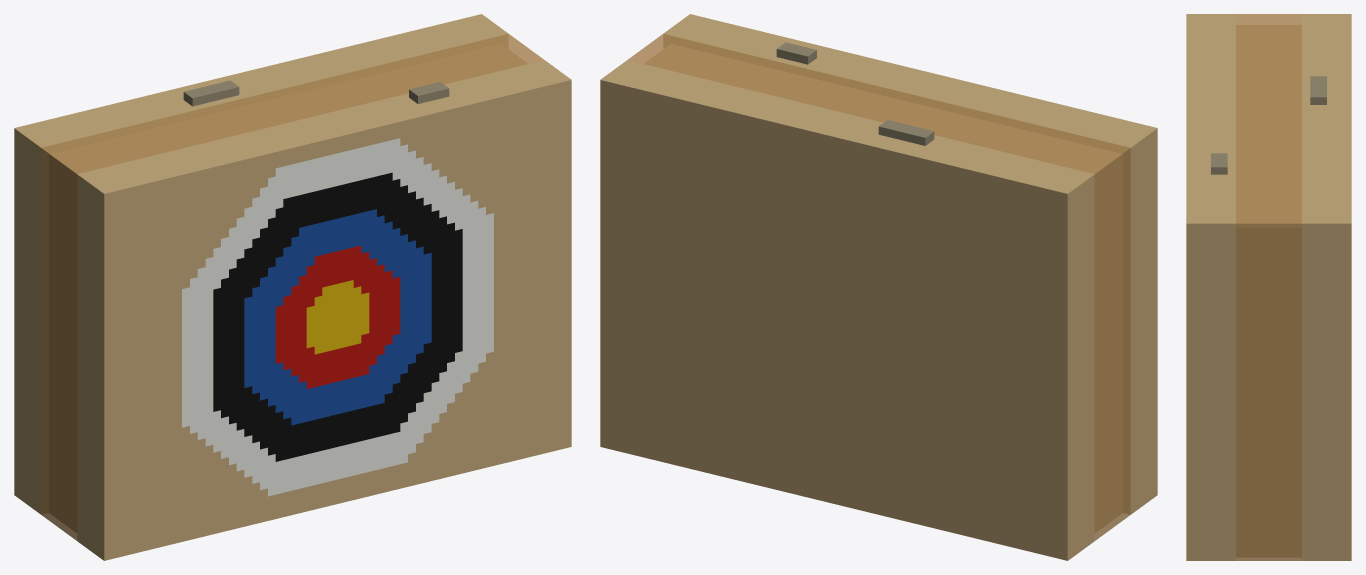
The model's file is archery_target_box.glb.
3 views of the same model, side by side, from view 1: azimuth 30°, elevation 25°; view 2: azimuth 150°, elevation 25°; view 3: azimuth 270°, elevation 25° (orthographic). The views are drawn at different scales.
Parts seen in each view (by area): view 1: archery_target_box:compound; view 2: archery_target_box:compound; view 3: archery_target_box:compound.
Part boxes in pixels (x1=…): archery_target_box:compound: x1=14, y1=14, x2=571, y2=560; archery_target_box:compound: x1=600, y1=14, x2=1157, y2=560; archery_target_box:compound: x1=1186, y1=14, x2=1351, y2=560.
Bounding box in the file's own units: 0.6 × 0.46 × 0.2.
